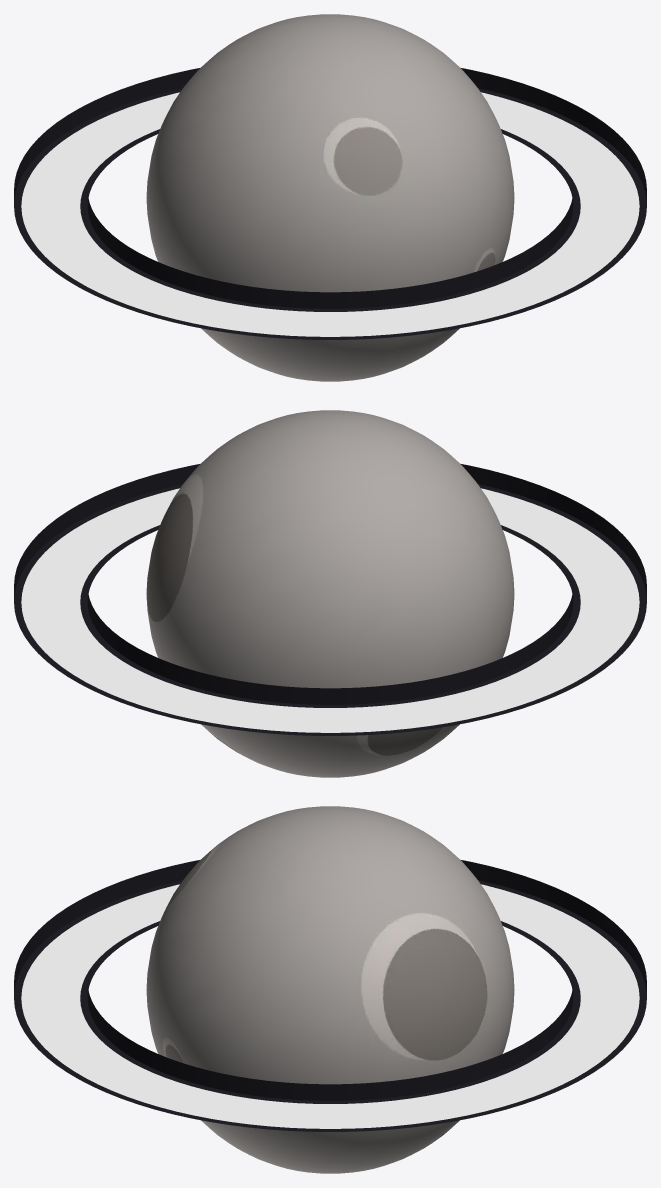
Rendered from ball_mercury.glb.
3 views of the same model, one above another, from view 1: azimuth 30°, elevation 25°; view 2: azimuth 150°, elevation 25°; view 3: azimuth 270°, elevation 25° (orthographic).
Parts seen in each view (by area): view 1: ball_mercury, ring; view 2: ball_mercury, ring; view 3: ball_mercury, ring.
Part boxes in pixels (x1,y1,x2,y2): ball_mercury: [146, 14, 514, 381]; ring: [14, 68, 646, 339]; ball_mercury: [146, 410, 514, 777]; ring: [14, 464, 646, 735]; ball_mercury: [146, 806, 514, 1173]; ring: [14, 860, 646, 1131].
Bounding box in the file's own units: 1.72 × 1 × 1.72.
2 materials, 1 textured.
